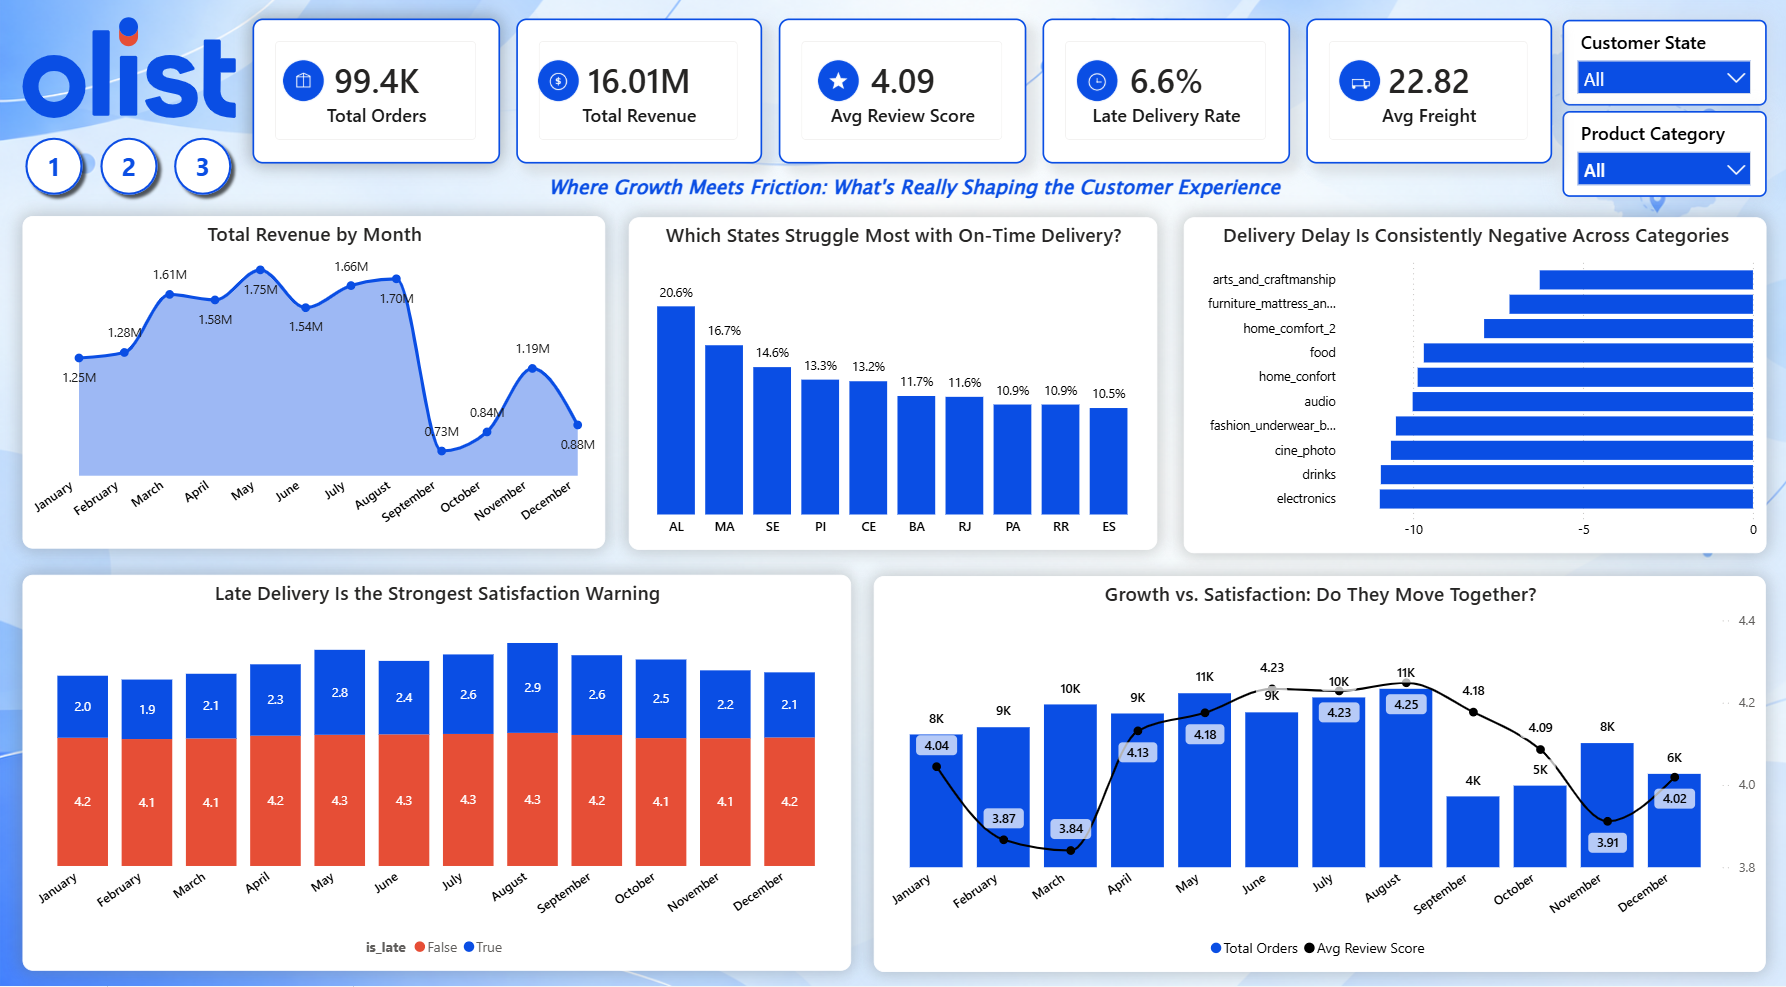

The dashboard page shown, as its layout file describes it:
{"tool":"powerbi","page":{"name":"Marketplace Performance & Delivery","canvas":[1715,950],"ordinal":0},"visuals":[{"type":"cardVisual","fields":{"Data":["Measures Table.Total Orders"]},"box":[242.2,21.6,237.5,139.1],"z":0,"group":"g2"},{"type":"cardVisual","fields":{"Data":["Measures Table.Total Revenue"]},"box":[495.3,21.6,235.9,139.1],"z":1000,"group":"g3"},{"type":"cardVisual","fields":{"Data":["Measures Table.Avg Review Score"]},"box":[746.9,21.6,237.5,139.1],"z":2000,"group":"g4"},{"type":"lineStackedColumnComboChart","title":"Growth vs. Satisfaction: Do They Move Together?","fields":{"Category":["olist_cleaned_data.purchase_month.Variation.Date Hierarchy.Month"],"Y2":["Measures Table.Avg Review Score"],"Y":["Measures Table.Total Orders"]},"box":[838.6,556.2,856.3,380],"z":3000},{"type":"columnChart","title":"Late Delivery Is the Strongest Satisfaction Warning","fields":{"Category":["olist_cleaned_data.purchase_month.Variation.Date Hierarchy.Month"],"Y":["Measures Table.Avg Review Score"],"Series":["olist_cleaned_data.is_late"]},"box":[21.7,555,795,380],"z":4000},{"type":"lineChart","fields":{"Category":["olist_cleaned_data.purchase_month.Variation.Date Hierarchy.Month"],"Y":["Measures Table.Total Revenue"]},"box":[21.2,211.3,559.4,319.4],"z":5000},{"type":"cardVisual","fields":{"Data":["Measures Table.Late Delivery Rate"]},"box":[1000,21.6,237.5,139.1],"z":6000,"group":"g5"},{"type":"cardVisual","fields":{"Data":["Measures Table.Avg Freight"]},"box":[1253.1,21.6,235.9,139.1],"z":7000,"group":"g6"},{"type":"clusteredBarChart","title":"Delivery Delay Is Consistently Negative Across Categories","fields":{"Category":["olist_cleaned_data.product_category_name_english"],"Y":["Measures Table.Avg Delay Days"]},"box":[1135.5,212.8,559.4,322.4],"z":8000},{"type":"columnChart","title":"Which States Struggle Most with On-Time Delivery?","fields":{"Y":["Measures Table.Late Delivery Rate"],"Category":["olist_cleaned_data.customer_state"]},"box":[603.1,212.8,506.9,319.4],"z":9000},{"type":"slicer","fields":{"Values":["olist_cleaned_data.customer_state"]},"box":[1499.5,22.6,195.8,82.8],"z":10000},{"type":"image","box":[21.9,10.9,204.7,115.6],"z":11000},{"type":"slicer","fields":{"Values":["olist_cleaned_data.product_category_name_english"]},"box":[1499.5,110.1,195.8,82.8],"z":12000},{"type":"group","id":"g1","title":"Group 1","box":[17.2,128.5,213.3,70],"z":13000},{"type":"shape","box":[17.2,128.5,70,70],"z":13000,"group":"g1"},{"type":"shape","box":[88.8,128.5,70,70],"z":14000,"group":"g1"},{"type":"textbox","box":[521.9,164.1,820.3,40.6],"z":14000},{"type":"image","box":[513.3,58.4,45,45],"z":14001,"group":"g3"},{"type":"image","box":[268.3,58.4,45,45],"z":14002,"group":"g2"},{"type":"image","box":[781.7,58.4,45,45],"z":14003,"group":"g4"},{"type":"image","box":[1030,58.4,45,45],"z":14004,"group":"g5"},{"type":"image","box":[1281.6,58.4,45,45],"z":14005,"group":"g6"},{"type":"group","id":"g2","title":"Group 2","box":[242.2,21.6,237.5,139.1],"z":14006},{"type":"group","id":"g3","title":"Group 3","box":[495.3,21.6,235.9,139.1],"z":14007},{"type":"group","id":"g4","title":"Group 4","box":[746.9,21.6,237.5,139.1],"z":14008},{"type":"group","id":"g5","title":"Group 5","box":[1000,21.6,237.5,139.1],"z":14009},{"type":"group","id":"g6","title":"Group 6","box":[1253.1,21.6,235.9,139.1],"z":14010},{"type":"shape","box":[160.5,128.5,70,70],"z":15000,"group":"g1"}]}

Visuals, with their boxes in screenshot pixels (x1, y1, x2, y2), scaled from the page's 1715x950 canvas onto the 1786x987 screenshot:
cardVisual - Measures Table.Total Orders: [252,22,500,167]
cardVisual - Measures Table.Total Revenue: [516,22,761,167]
cardVisual - Measures Table.Avg Review Score: [778,22,1025,167]
"Growth vs. Satisfaction: Do They Move Together?" lineStackedColumnComboChart: [873,578,1765,973]
"Late Delivery Is the Strongest Satisfaction Warning" columnChart: [23,577,851,971]
lineChart - olist_cleaned_data.purchase_month.Variation.Date Hierarchy.Month x Measures Table.Total Revenue: [22,220,605,551]
cardVisual - Measures Table.Late Delivery Rate: [1041,22,1289,167]
cardVisual - Measures Table.Avg Freight: [1305,22,1551,167]
"Delivery Delay Is Consistently Negative Across Categories" clusteredBarChart: [1183,221,1765,556]
"Which States Struggle Most with On-Time Delivery?" columnChart: [628,221,1156,553]
slicer - olist_cleaned_data.customer_state: [1562,23,1765,110]
image: [23,11,236,131]
slicer - olist_cleaned_data.product_category_name_english: [1562,114,1765,200]
"Group 1" group: [18,134,240,206]
shape: [18,134,91,206]
shape: [92,134,165,206]
textbox: [544,170,1398,213]
image: [535,61,581,107]
image: [279,61,326,107]
image: [814,61,861,107]
image: [1073,61,1120,107]
image: [1335,61,1382,107]
"Group 2" group: [252,22,500,167]
"Group 3" group: [516,22,761,167]
"Group 4" group: [778,22,1025,167]
"Group 5" group: [1041,22,1289,167]
"Group 6" group: [1305,22,1551,167]
shape: [167,134,240,206]
